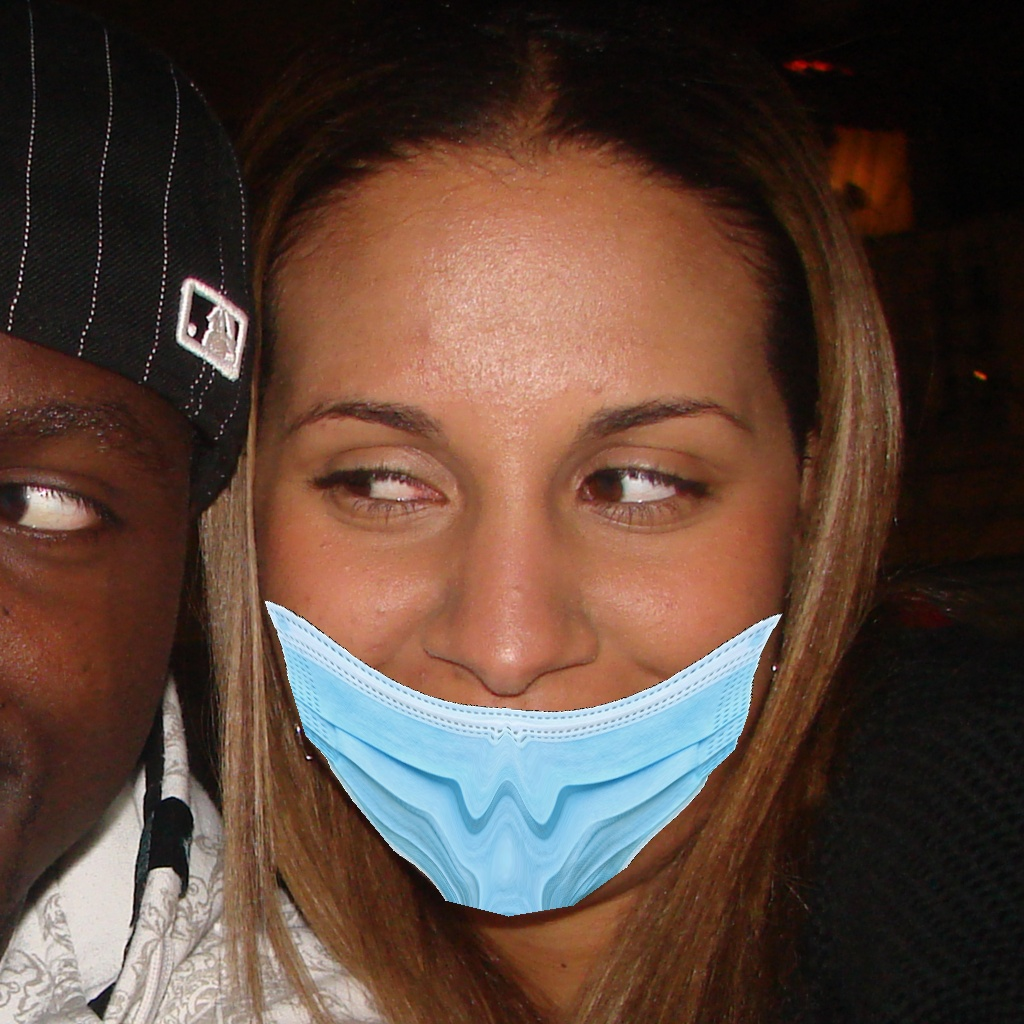Mask_Mouth_Chin: (261, 363, 807, 915)
